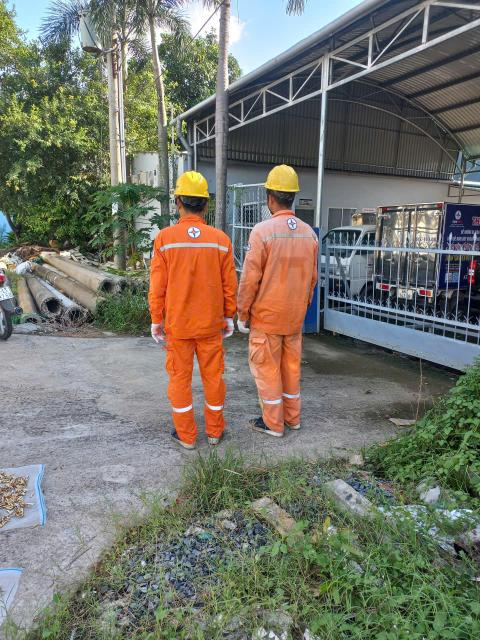gloves: (148, 319, 172, 352), (218, 315, 238, 339), (241, 318, 253, 338)
helmet: (263, 157, 311, 199), (171, 168, 215, 204)
shoes: (250, 410, 281, 439), (202, 419, 229, 447), (173, 428, 202, 453), (284, 410, 308, 438)
